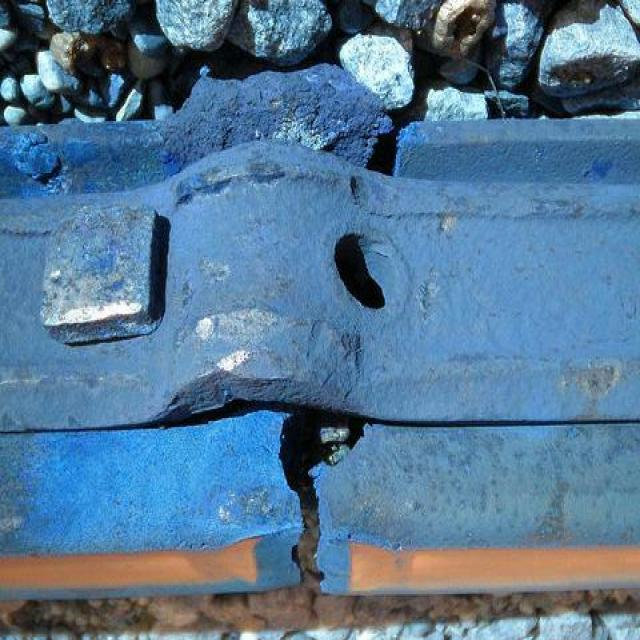Defective Joint: (0, 136, 639, 547)
